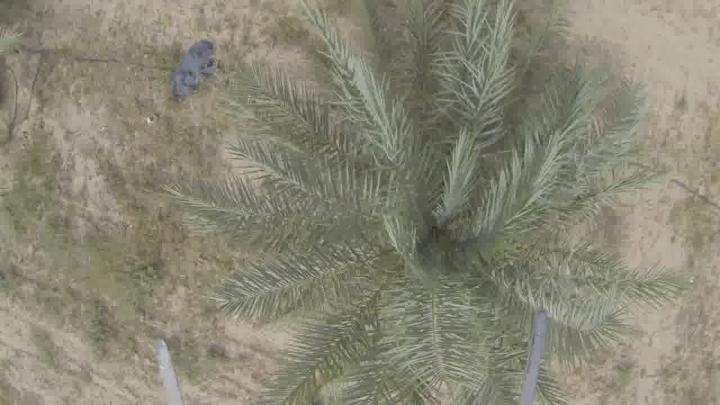Date-Palm-Crown: (316, 84, 568, 368)
